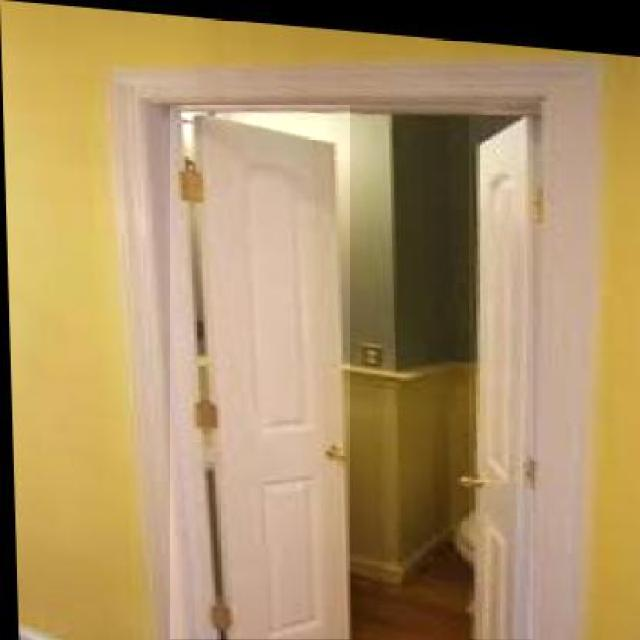door: (170, 100, 351, 640), (469, 116, 533, 639)
